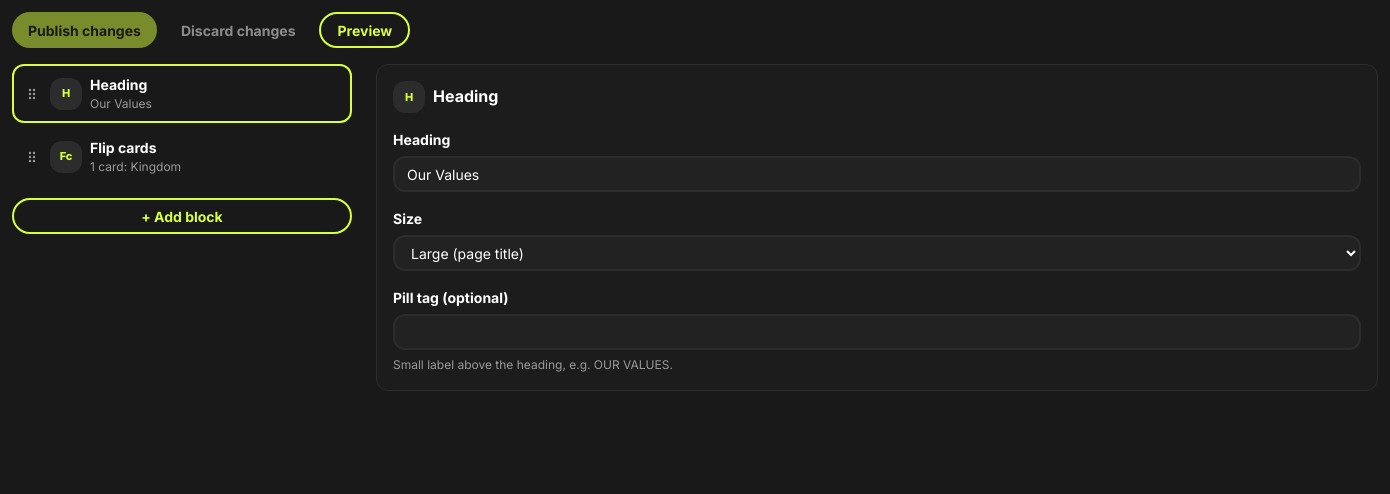
Test: BlockEditor › autosaves a valid change a second after typing stops
Replace the text in the field labelled "Heading" with "Our Values!". click: (877, 174)
box: [393, 156, 1361, 192]
Wait 1010 ms
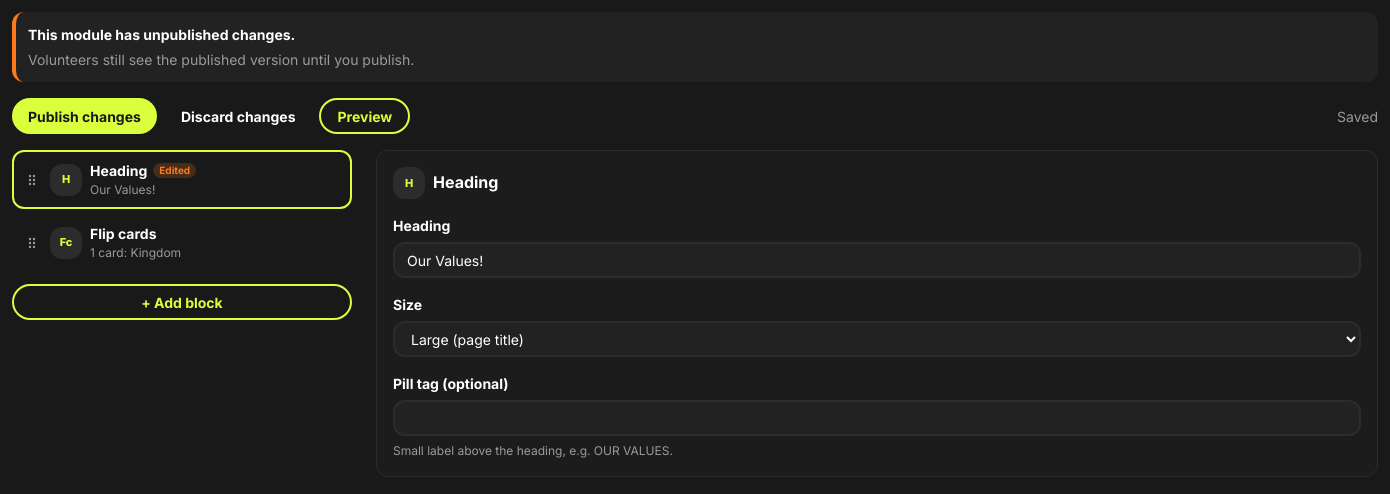
Expected: the text "Saved" is shown, [1337, 106, 1378, 126]
Expected: the text "Our Values!" is shown, [90, 182, 155, 197]
Expected: the text "This module has unpublished changes." is shown, [28, 26, 295, 43]
